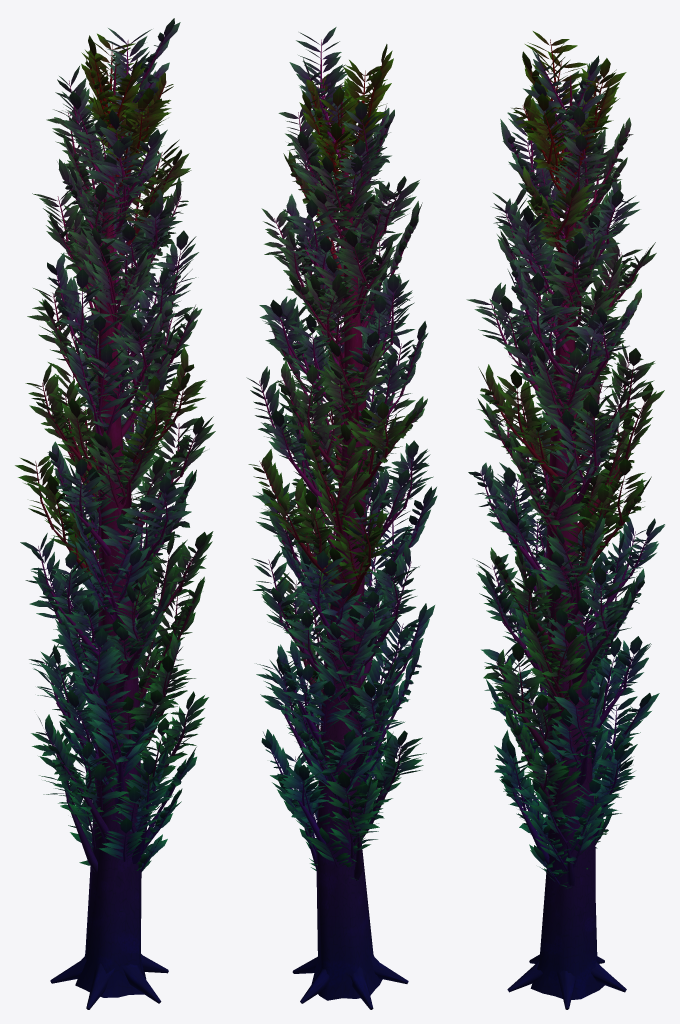
File: cypress_lod0.glb
The picture shows the model from 3 angles, left to right: view 1: azimuth 30°, elevation 25°; view 2: azimuth 150°, elevation 25°; view 3: azimuth 270°, elevation 25°; orthographic projection. The views are drawn at different scales.
Parts seen in each view (by area): view 1: cypress_lod0; view 2: cypress_lod0; view 3: cypress_lod0.
Boxes of the visible parts, x1,y1,x2,y2 form: cypress_lod0: (15, 18, 215, 1009); cypress_lod0: (246, 27, 437, 1009); cypress_lod0: (466, 31, 664, 1009).
Bounding box in the file's own units: 1.68 × 9.08 × 1.71.
Materials: 2 (2 with a texture image).
